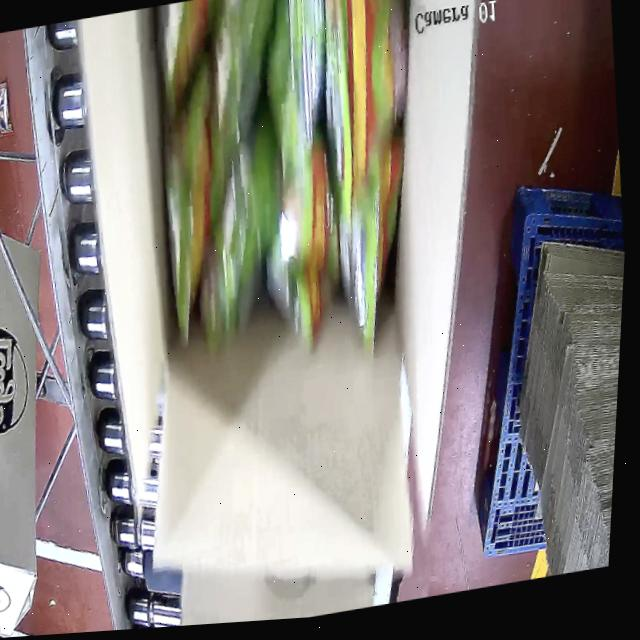YOGURT_HERB: (128, 0, 441, 360)
